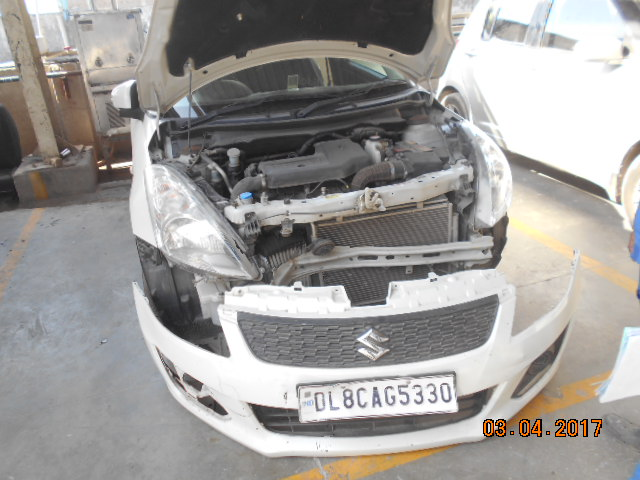Large_tear_or_damage: (128, 139, 505, 289)
